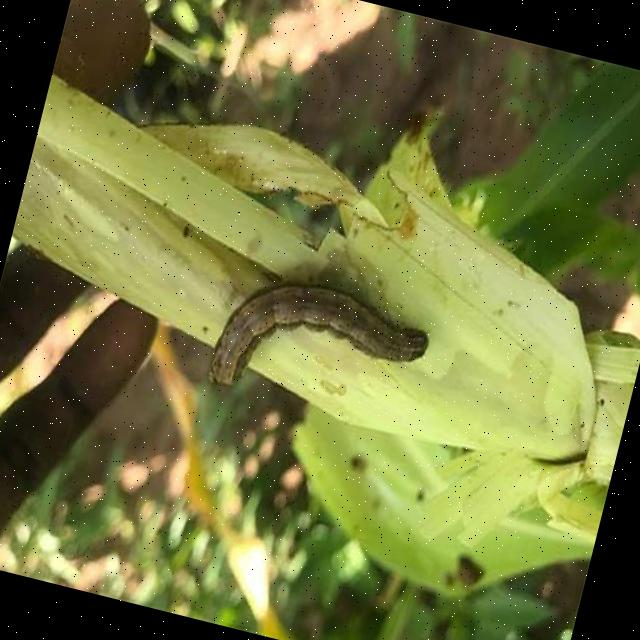worm: (203, 264, 436, 435)
